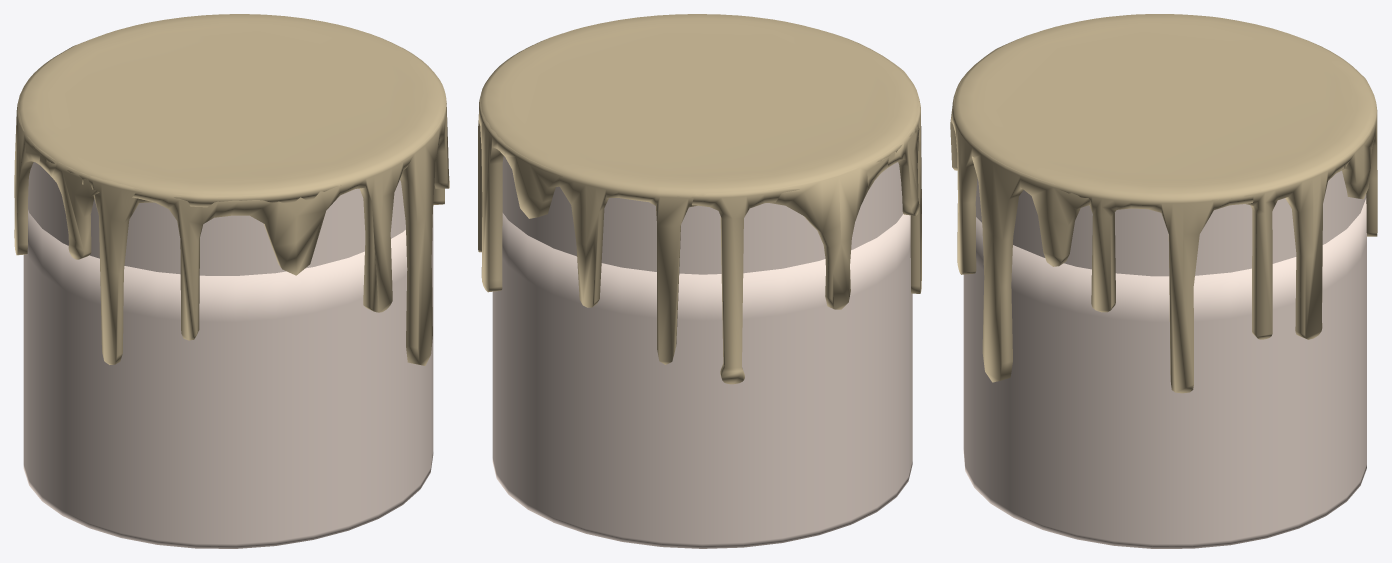
The model's file is 1-tier-white-ganache-none.glb.
3 renders of one model, left to right at view 1: azimuth 30°, elevation 25°; view 2: azimuth 150°, elevation 25°; view 3: azimuth 270°, elevation 25°, orthographic.
Visible parts, largest first — view 1: Cylinder.019, tHE ICING; view 2: Cylinder.019, tHE ICING; view 3: Cylinder.019, tHE ICING.
Boxes of the visible parts, x1,y1,x2,y2 form: Cylinder.019: (23, 162, 433, 548); tHE ICING: (14, 14, 449, 365); Cylinder.019: (492, 156, 912, 548); tHE ICING: (478, 14, 921, 384); Cylinder.019: (963, 170, 1366, 548); tHE ICING: (950, 14, 1377, 393).
Bounding box in the file's own units: 2.8 × 2.52 × 2.71.
